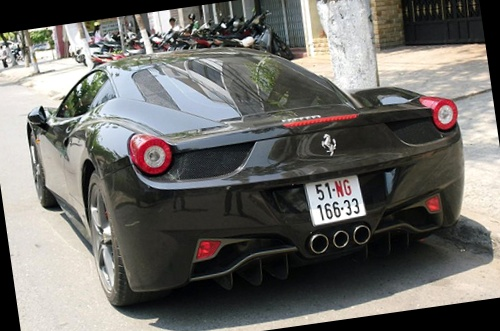plate: (300, 173, 376, 226)
